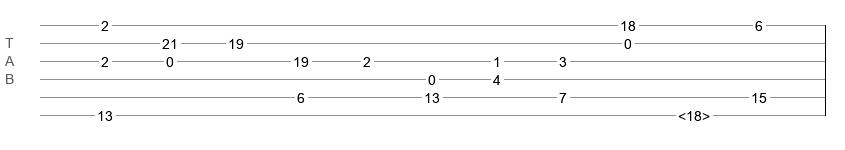0: (166, 54, 174, 64), (428, 72, 436, 82), (624, 36, 632, 46)
1: (493, 54, 501, 64)
13: (97, 108, 113, 118), (424, 90, 440, 100)
15: (751, 90, 767, 100)
18: (620, 18, 636, 28)
19: (228, 36, 244, 46), (293, 54, 309, 64)
2: (101, 54, 109, 64), (101, 18, 109, 28), (363, 54, 371, 64)
21: (162, 36, 178, 46)
3: (559, 54, 567, 64)
4: (493, 72, 501, 82)
6: (297, 90, 305, 100), (755, 18, 763, 28)
7: (559, 90, 567, 100)
harmonic: (678, 108, 710, 118)
